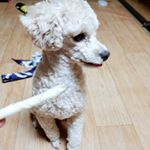puppy: (14, 1, 112, 146)
